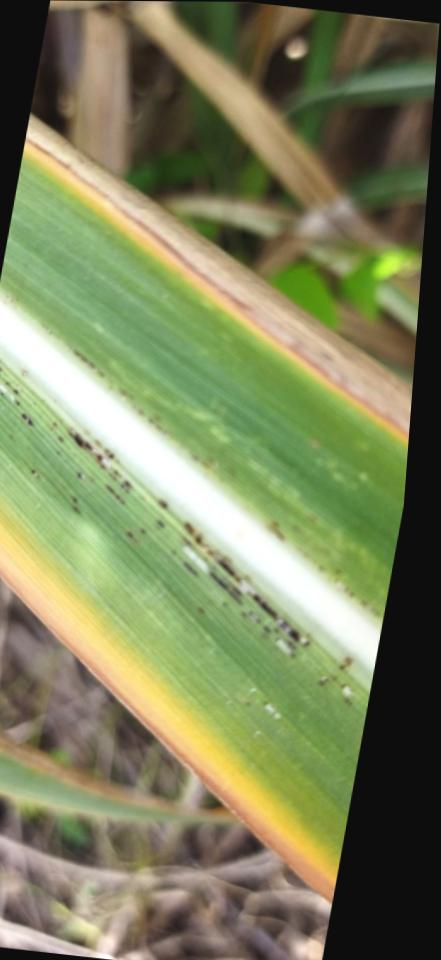Rust: (159, 518, 315, 677), (49, 417, 136, 510), (314, 563, 380, 621), (106, 384, 168, 435), (313, 653, 355, 711), (0, 367, 38, 431), (119, 495, 169, 541), (69, 345, 112, 384), (264, 515, 286, 542), (67, 490, 83, 521), (20, 462, 40, 483), (190, 601, 207, 617)
Yellow: (0, 504, 345, 883), (21, 149, 409, 453)
